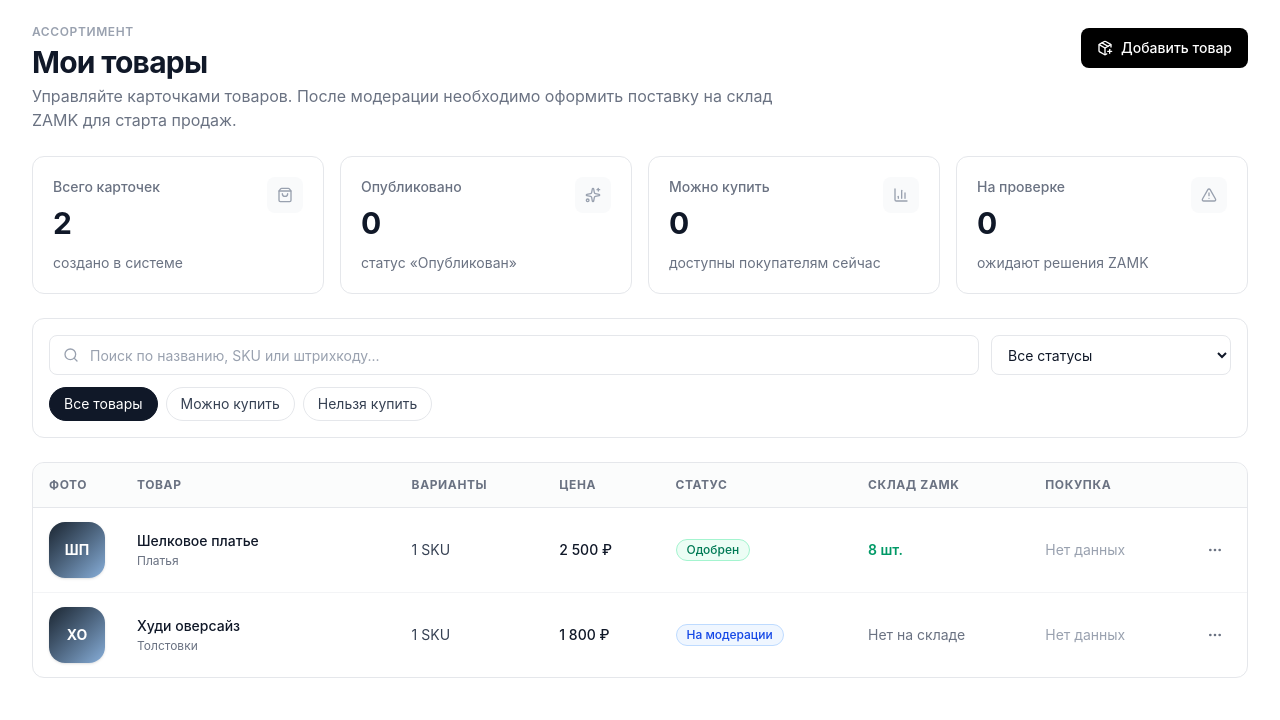
Test case: SELLER R1.4A — Surface System Reference › 5. Products Canonical Surface Rollout (R1.4B1 & R1.4B1A) › Products adopts SellerKpiCard, SellerTableShell, and on-demand SellerDrawer on row click
This screenshot has width=1280, height=720.
Expected: the heading "Мои товары" is shown, [32, 44, 207, 80]
Expected: the element with test id "seller-table-shell" is shown, [32, 462, 1248, 678]
// Clicking a row opens the on-demand detail drawer
Click the text "Шелковое платье".
click(198, 540)  # box [137, 532, 259, 549]
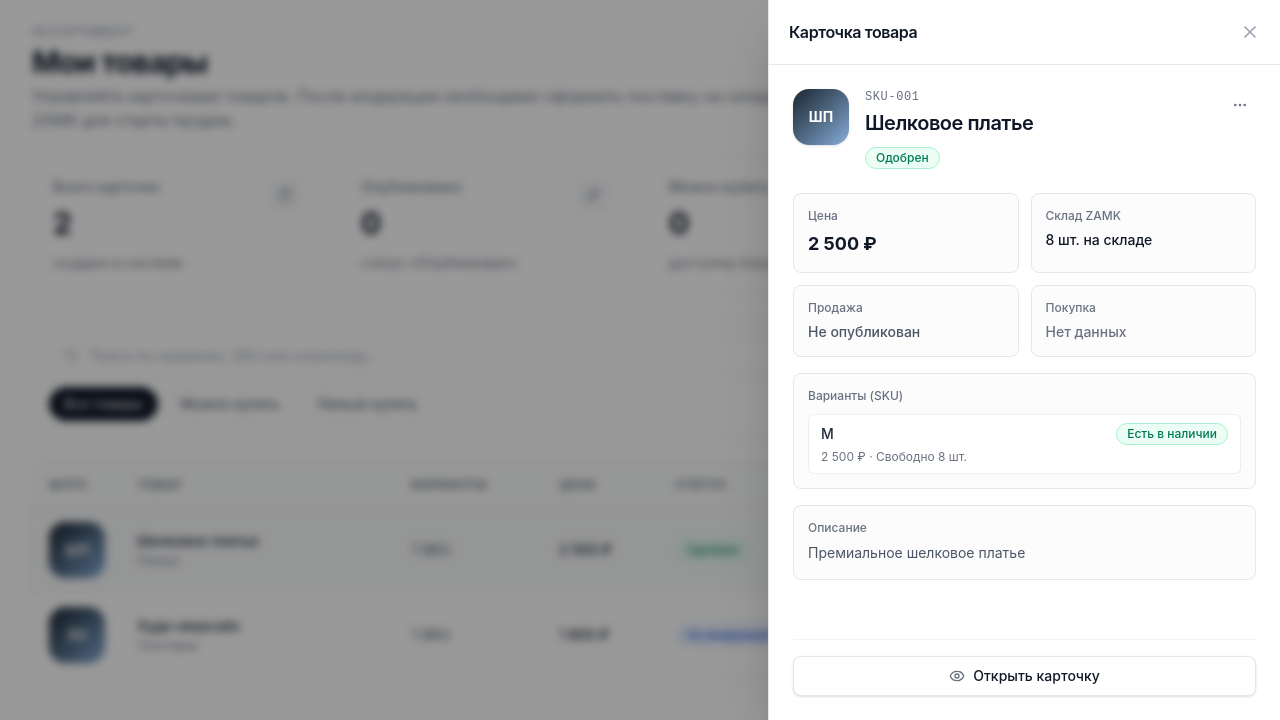
Now the element with test id "seller-product-drawer" is shown
Now the heading "Карточка товара" is shown, box [789, 22, 917, 42]
// Closing drawer via close button dismisses drawer and clears selection
Click the button with test id "seller-drawer-close".
click(1250, 32)  # box [1234, 16, 1266, 48]
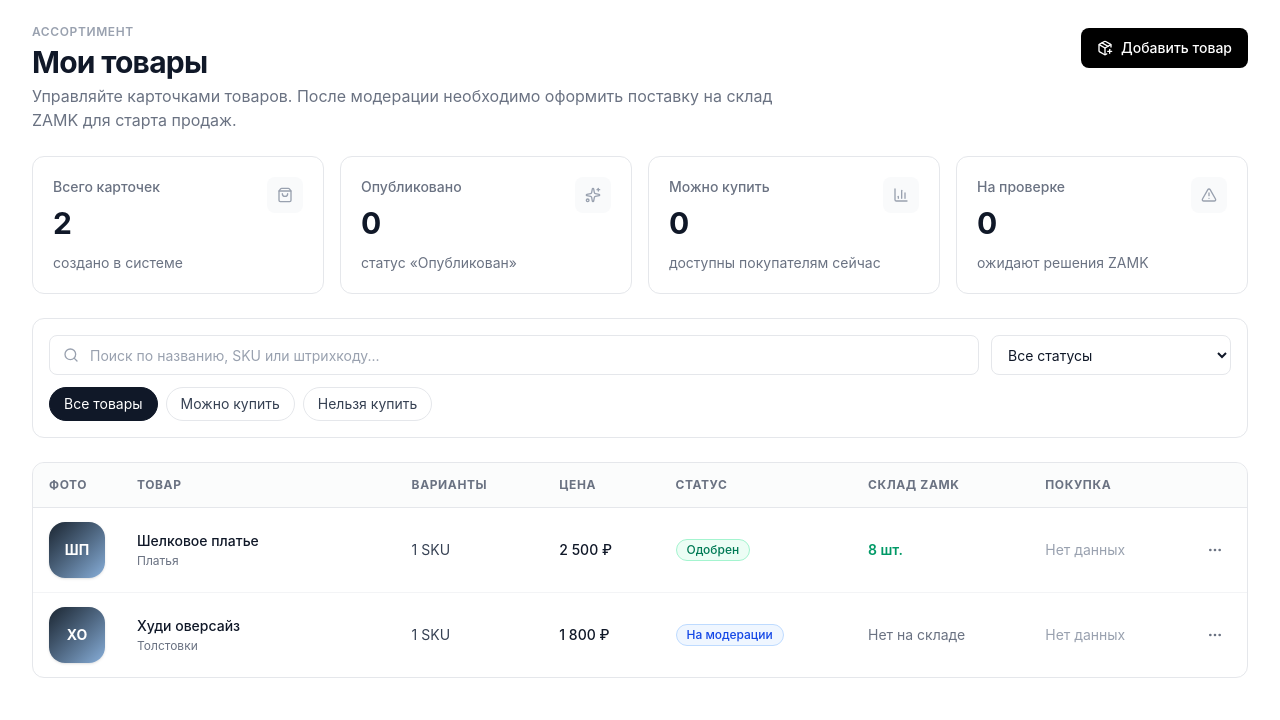
Now the element with test id "seller-product-drawer" is gone
// Reopening drawer and closing via Escape key
Click the text "Худи оверсайз".
click(189, 626)  # box [137, 617, 240, 634]
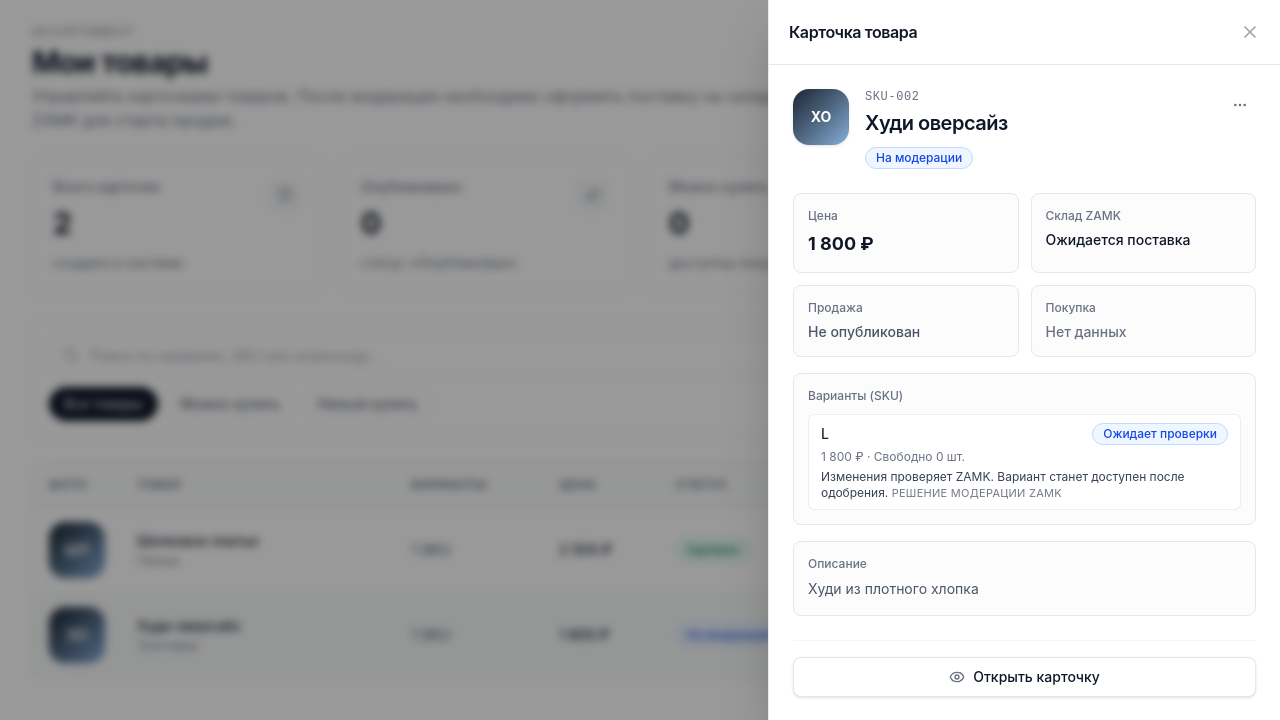
Now the element with test id "seller-product-drawer" is shown
Press Escape
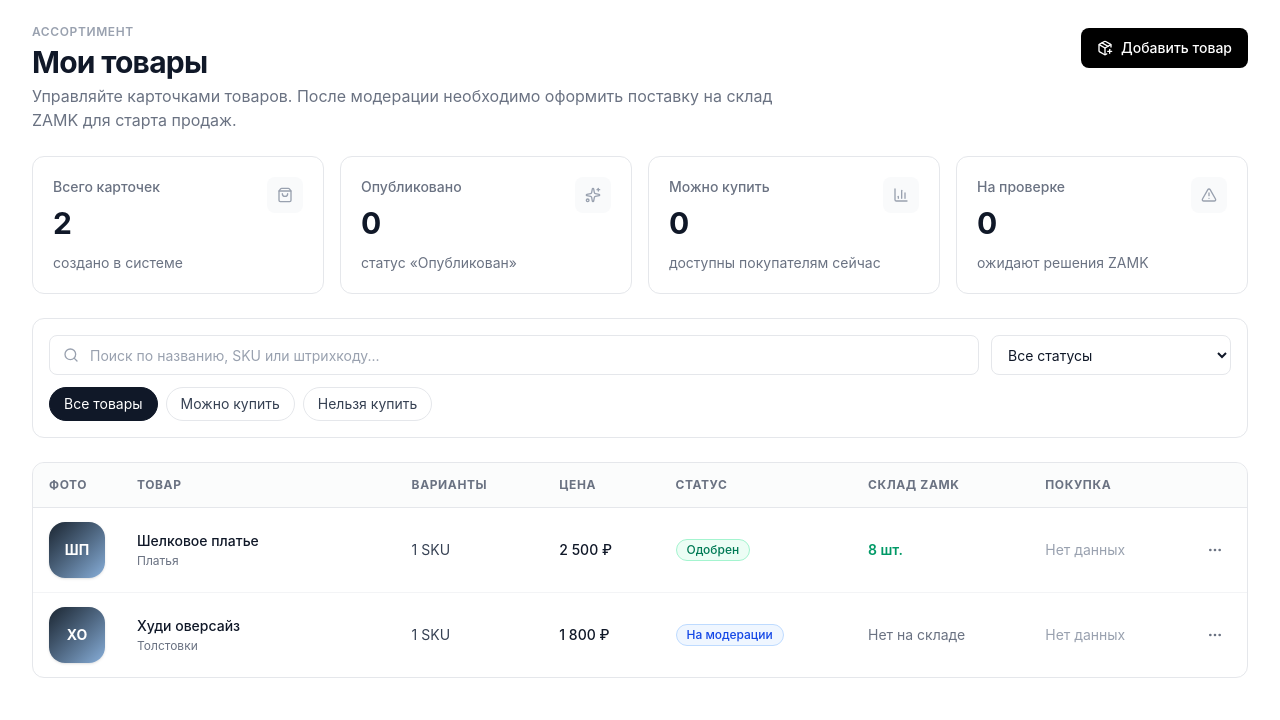
Now the element with test id "seller-product-drawer" is gone
